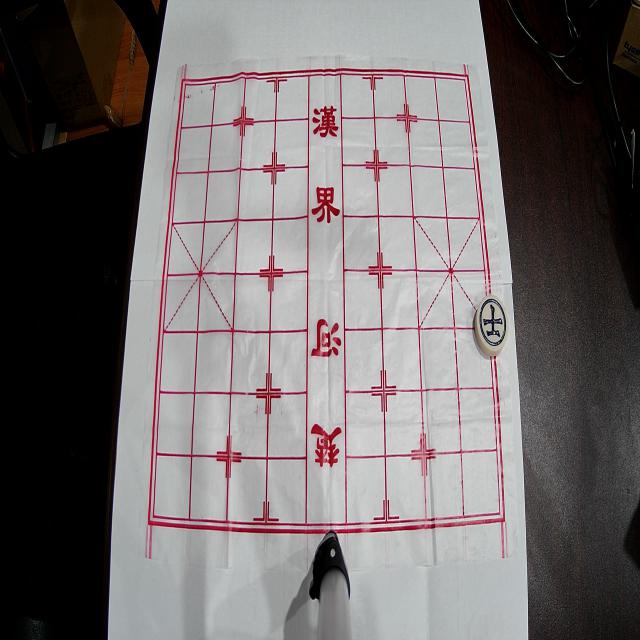black-guard: (474, 295, 508, 356)
